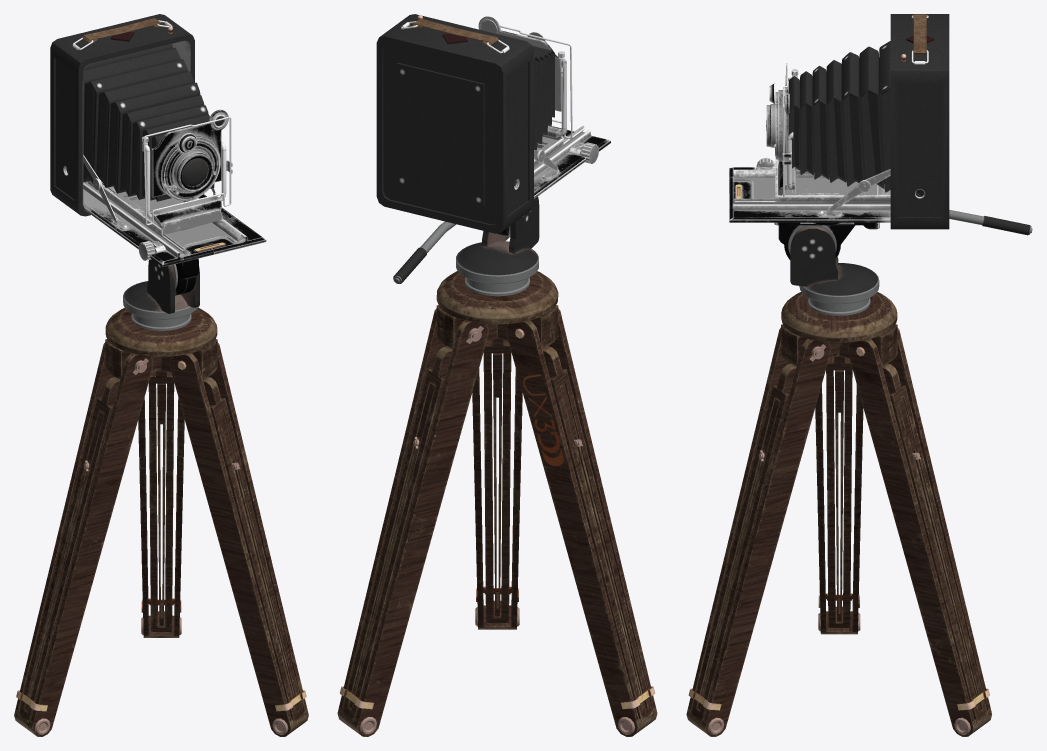
Rendered from antique-camera.glb.
The picture shows the model from 3 angles, left to right: view 1: azimuth 30°, elevation 25°; view 2: azimuth 150°, elevation 25°; view 3: azimuth 270°, elevation 25°; orthographic projection. The views are drawn at different scales.
Visible parts, largest first — view 1: tripod, camera; view 2: tripod, camera; view 3: tripod, camera.
Boxes of the visible parts, left/top/right/bottom form: tripod: left=14, top=258, right=308, bottom=736; camera: left=50, top=14, right=266, bottom=266; tripod: left=337, top=196, right=657, bottom=736; camera: left=376, top=14, right=610, bottom=233; tripod: left=686, top=210, right=1032, bottom=736; camera: left=729, top=14, right=949, bottom=229.
Size of the model in its own units: 2.6 by 7.21 by 3.39.
Materials: 2 (2 with a texture image).
